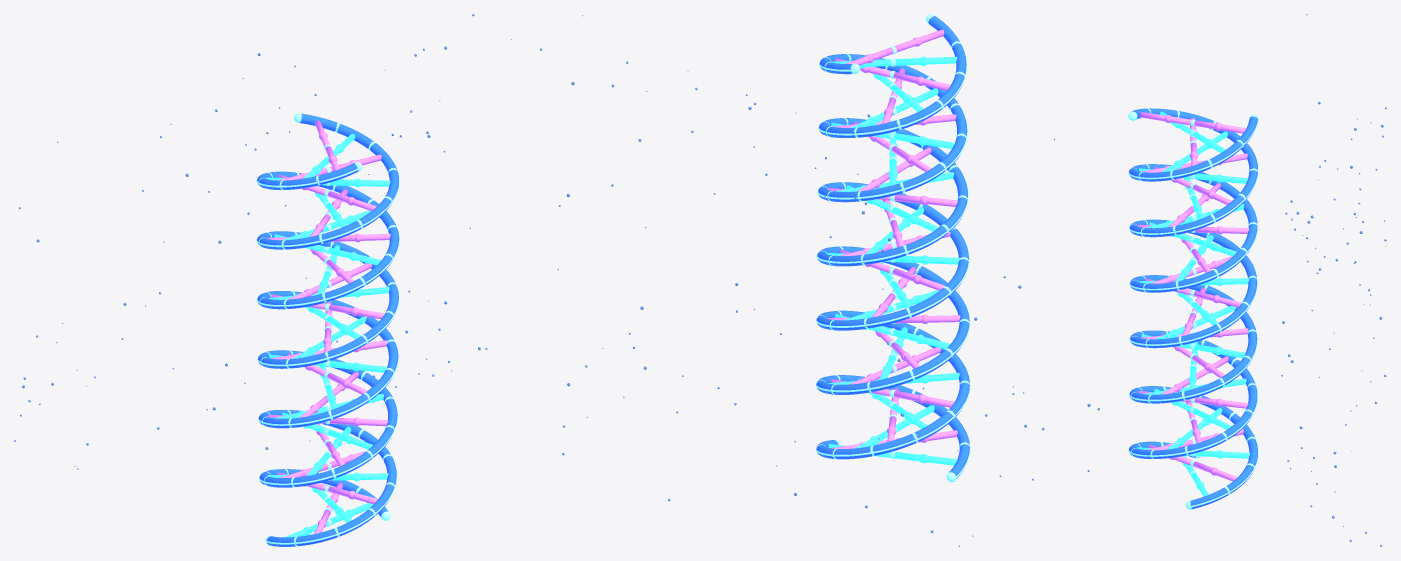
File: DNA.glb
The picture shows the model from 3 angles, left to right: view 1: azimuth 30°, elevation 25°; view 2: azimuth 150°, elevation 25°; view 3: azimuth 270°, elevation 25°; orthographic projection. The views are drawn at different scales.
Visible parts, largest first — view 1: DNA Sugar Phosphate Backbone.001, DNA Sugar Phosphate Backbone, Backbone Luminous Edge.001, Backbone Luminous Edge; view 2: DNA Sugar Phosphate Backbone.001, DNA Sugar Phosphate Backbone, Backbone Luminous Edge, Backbone Luminous Edge.001; view 3: DNA Sugar Phosphate Backbone, DNA Sugar Phosphate Backbone.001, Backbone Luminous Edge, Backbone Luminous Edge.001.
Boxes of the visible parts, x1,y1,x2,y2 form: DNA Sugar Phosphate Backbone.001: [257, 163, 399, 546]; DNA Sugar Phosphate Backbone: [257, 113, 398, 517]; Backbone Luminous Edge.001: [256, 168, 399, 544]; Backbone Luminous Edge: [256, 169, 399, 485]; DNA Sugar Phosphate Backbone.001: [816, 16, 969, 478]; DNA Sugar Phosphate Backbone: [816, 54, 969, 459]; Backbone Luminous Edge: [816, 62, 970, 456]; Backbone Luminous Edge.001: [815, 46, 970, 478]; DNA Sugar Phosphate Backbone: [1129, 116, 1258, 509]; DNA Sugar Phosphate Backbone.001: [1129, 108, 1257, 458]; Backbone Luminous Edge: [1128, 119, 1258, 507]; Backbone Luminous Edge.001: [1128, 116, 1258, 456].
Size of what is drawn, in the model's own units: 13.4 by 10.57 by 6.61.
